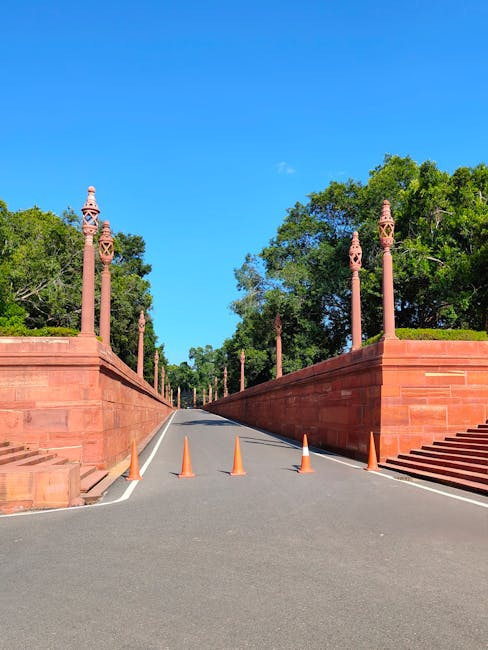traffic_cone: (363, 431, 382, 472), (178, 435, 196, 478), (229, 435, 247, 476), (297, 433, 315, 473), (126, 439, 143, 481)
